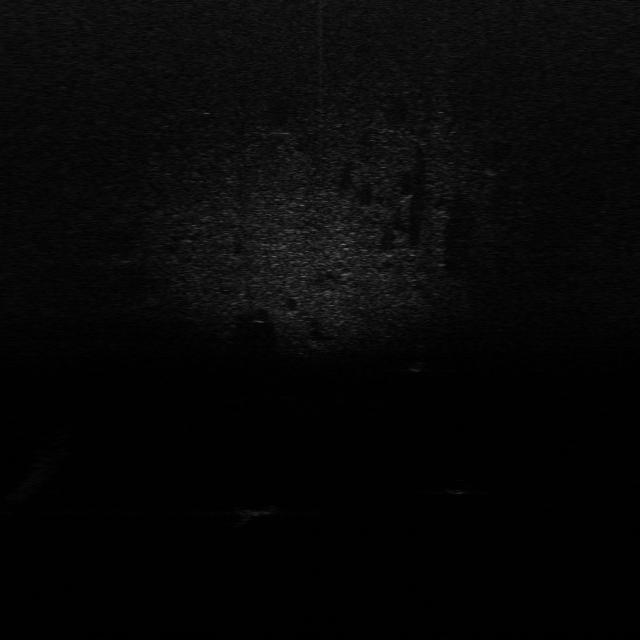ball: (439, 479, 482, 497)
square cage: (233, 498, 284, 520)
tyre: (407, 341, 431, 374)
